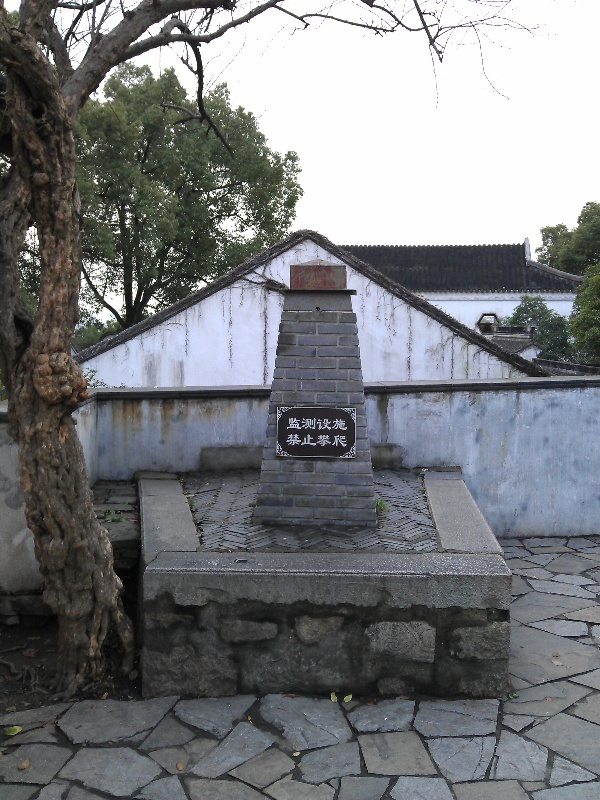text: (289, 417, 304, 432), (305, 417, 320, 432), (321, 417, 336, 432), (289, 434, 304, 448), (305, 434, 320, 448), (321, 434, 336, 448), (337, 417, 349, 432), (337, 434, 349, 448), (286, 434, 288, 448), (287, 417, 288, 432)
